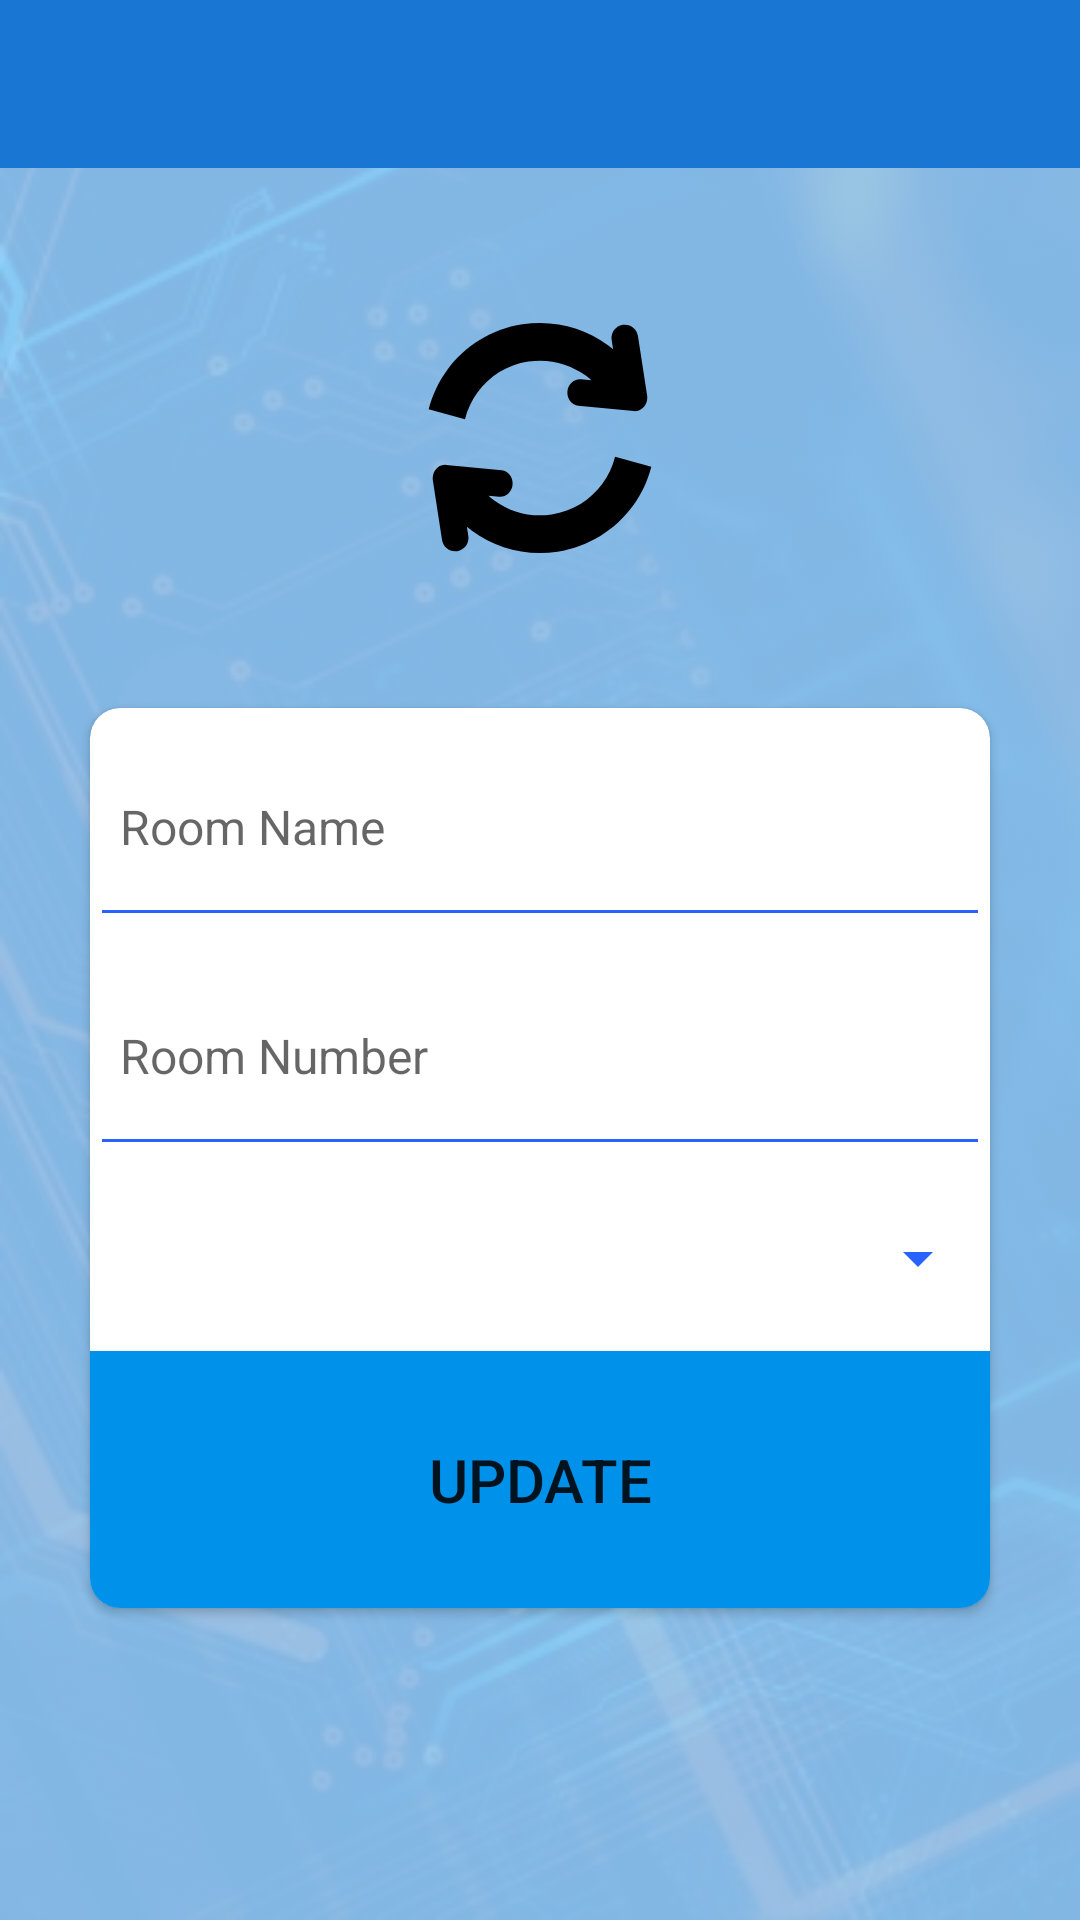

Locate icon controls on the screen. Image size 1080×1920, boxes as (x1, y1, x2, y2).
update: (428, 323, 651, 553)
